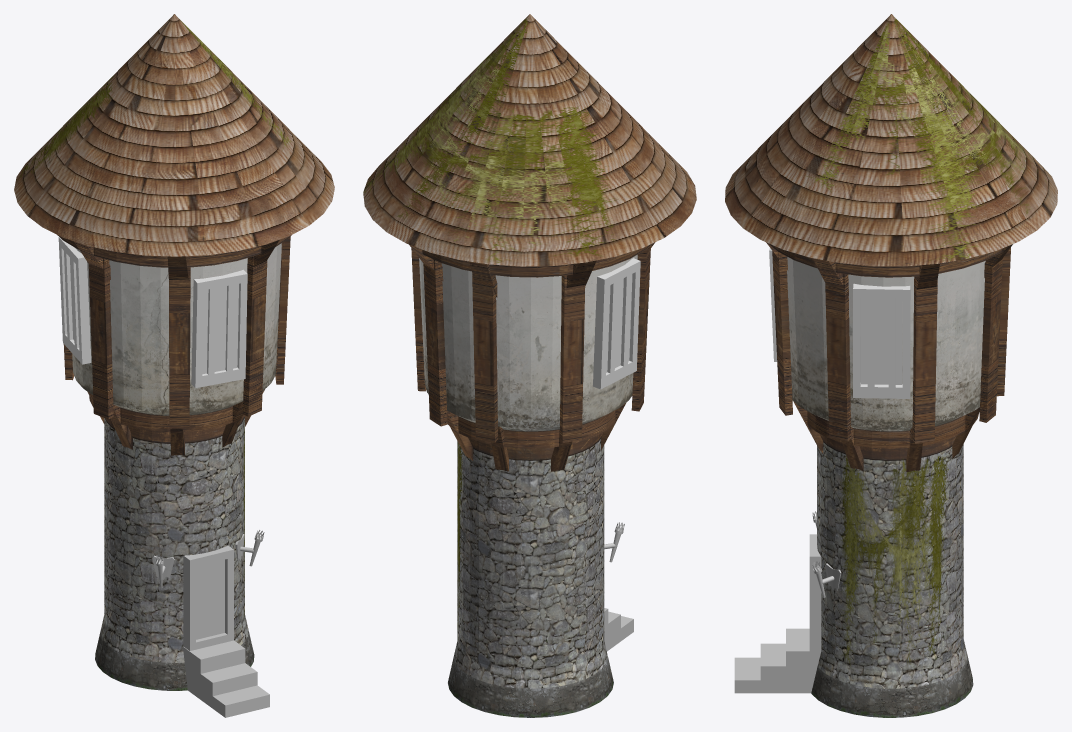
Rendered from Tower334.fbx.
3 renders of one model, left to right at view 1: azimuth 30°, elevation 25°; view 2: azimuth 150°, elevation 25°; view 3: azimuth 270°, elevation 25°, orthographic. The views are drawn at different scales.
Parts seen in each view (by area): view 1: Roof, Tower.Base, Supports, Door&Windows.001, Windows, Torch; view 2: Tower.Base, Roof, Supports, Windows, Door&Windows.001; view 3: Tower.Base, Roof, Supports, Windows, Door&Windows.001, Torch.
Part boxes in pixels (bbox=[...]): Roof: bbox=[14, 14, 334, 256]; Tower.Base: bbox=[72, 243, 281, 690]; Supports: bbox=[57, 235, 291, 455]; Door&Windows.001: bbox=[183, 545, 269, 717]; Windows: bbox=[58, 237, 247, 388]; Torch: bbox=[152, 530, 264, 588]; Tower.Base: bbox=[419, 255, 637, 717]; Roof: bbox=[363, 14, 696, 266]; Supports: bbox=[409, 242, 654, 471]; Windows: bbox=[593, 258, 640, 389]; Door&Windows.001: bbox=[604, 608, 633, 651]; Tower.Base: bbox=[787, 257, 985, 717]; Roof: bbox=[725, 14, 1057, 266]; Supports: bbox=[766, 242, 1012, 472]; Windows: bbox=[769, 248, 910, 398]; Door&Windows.001: bbox=[734, 534, 821, 693]; Torch: bbox=[812, 511, 841, 597].
Size of the model in its own units: 844 by 1871 by 844.
